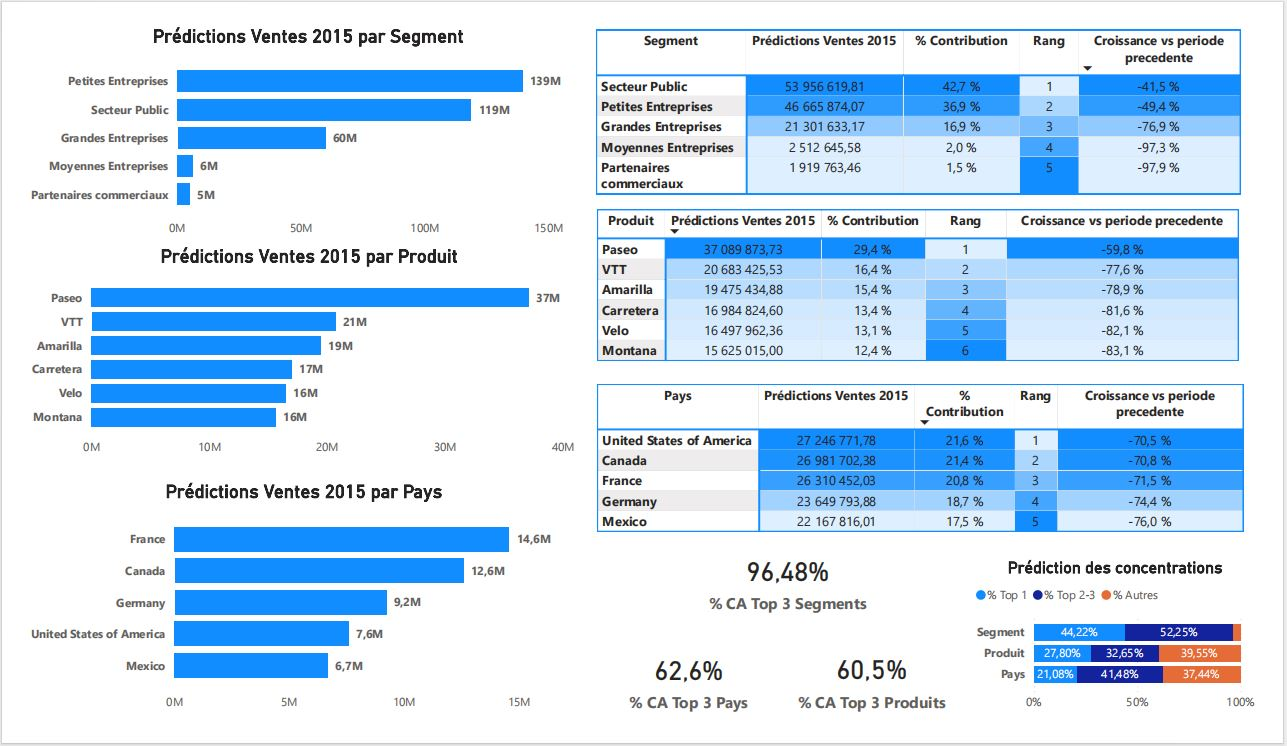

The dashboard page shown, as its layout file describes it:
{"tool":"powerbi","page":{"name":"Facteurs clés des prévisions et risques","canvas":[1280,720],"ordinal":3},"visuals":[{"type":"clusteredBarChart","title":"Prévisions ventes 2015 par segment","fields":{"Y":["financials.Predictions Ventes 2015 par Segment"],"Category":["financials.Segment"]},"box":[0,0,586.6,228.4],"z":0},{"type":"pivotTable","fields":{"Rows":["financials.Segment"],"Values":["financials.Prédictions Ventes 2015","financials.% Contribution","financials.Rang","financials.Croissance vs periode precedente"]},"box":[587.3,0,680.3,180.3],"z":1000},{"type":"barChart","title":"Prévisions des ventes 2015 par produit","fields":{"Category":["financials.Produit"],"Y":["financials.Prédictions Ventes 2015"]},"box":[1.5,228.4,586.6,226.9],"z":2000},{"type":"pivotTable","fields":{"Rows":["financials.Produit"],"Values":["financials.Prédictions Ventes 2015","financials.% Contribution","financials.Rang","financials.Croissance vs periode precedente"]},"box":[589,180.2,680.2,196.7],"z":3000},{"type":"clusteredBarChart","title":"Prévisions des ventes 2015 par pays","fields":{"Y":["financials.Predictions Ventes 2015 par Pays"],"Category":["financials.Country"]},"box":[0,472.1,577.9,247.1],"z":4000},{"type":"pivotTable","fields":{"Rows":["financials.Pays"],"Values":["financials.Prédictions Ventes 2015","financials.% Contribution","financials.Rang","financials.Croissance vs periode precedente"]},"box":[589.3,365.3,681.3,178.7],"z":5000},{"type":"card","title":"Top 3 Segment contribution","fields":{"Values":["financials.% CA Top 3 Segments"]},"box":[646.4,534.8,289.9,81.2],"z":6000},{"type":"card","fields":{"Values":["financials.% CA Top 2 Pays"]},"box":[598.6,636.2,179.7,84.1],"z":7000},{"type":"card","fields":{"Values":["financials.% CA Top 3 Produits"]},"box":[791.3,636.2,173.9,82.6],"z":8000},{"type":"barChart","title":"Concentration prévisionnelle du chiffre d''affaires","fields":{"Category":["Axe Concentration.Domaine"],"Y":["financials.% Top 1","financials.% Top 2-3","financials.% Autres"]},"box":[979.7,552.2,300,168.1],"z":9000}]}

Visuals, with their boxes in screenshot pixels (x1, y1, x2, y2), scaled from the page's 1280x720 canvas onto the 1287x746 screenshot:
"Prévisions ventes 2015 par segment" clusteredBarChart: <region>0, 0, 590, 237</region>
pivotTable - financials.Segment x financials.Prédictions Ventes 2015: <region>591, 0, 1275, 187</region>
"Prévisions des ventes 2015 par produit" barChart: <region>2, 237, 591, 472</region>
pivotTable - financials.Produit x financials.Prédictions Ventes 2015: <region>592, 187, 1276, 391</region>
"Prévisions des ventes 2015 par pays" clusteredBarChart: <region>0, 489, 581, 745</region>
pivotTable - financials.Pays x financials.Prédictions Ventes 2015: <region>593, 378, 1278, 564</region>
"Top 3 Segment contribution" card: <region>650, 554, 941, 638</region>
card - financials.% CA Top 2 Pays: <region>602, 659, 783, 745</region>
card - financials.% CA Top 3 Produits: <region>796, 659, 970, 745</region>
"Concentration prévisionnelle du chiffre d''affaires" barChart: <region>985, 572, 1286, 745</region>
